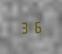six: (31, 19, 42, 33)
three: (19, 20, 30, 34)
